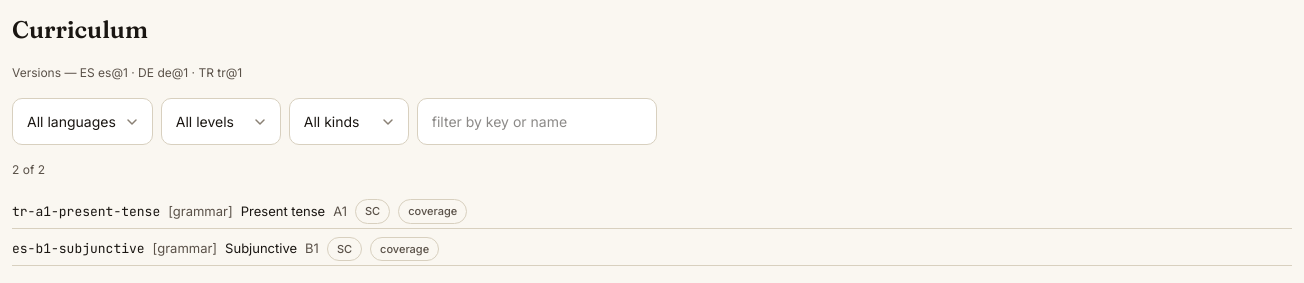
Scenario: CurriculumPage › client text filter narrows the list
expect the text "es-b1-subjunctive" is shown: met, box [12,239,145,258]
Type "present" into the field labelled "filter by key or name" at x=537, y=122, box [417,98,657,145]
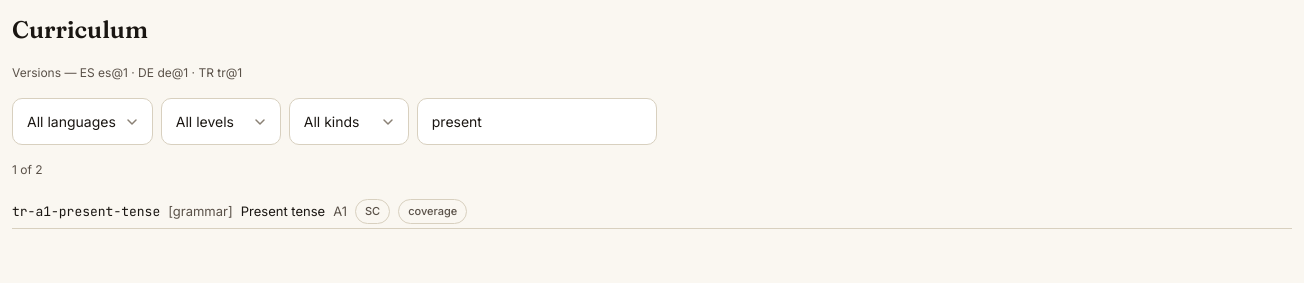
expect the text "tr-a1-present-tense" is shown: met, box [12,202,160,221]
expect the button "es-b1-subjunctive" is gone: met
